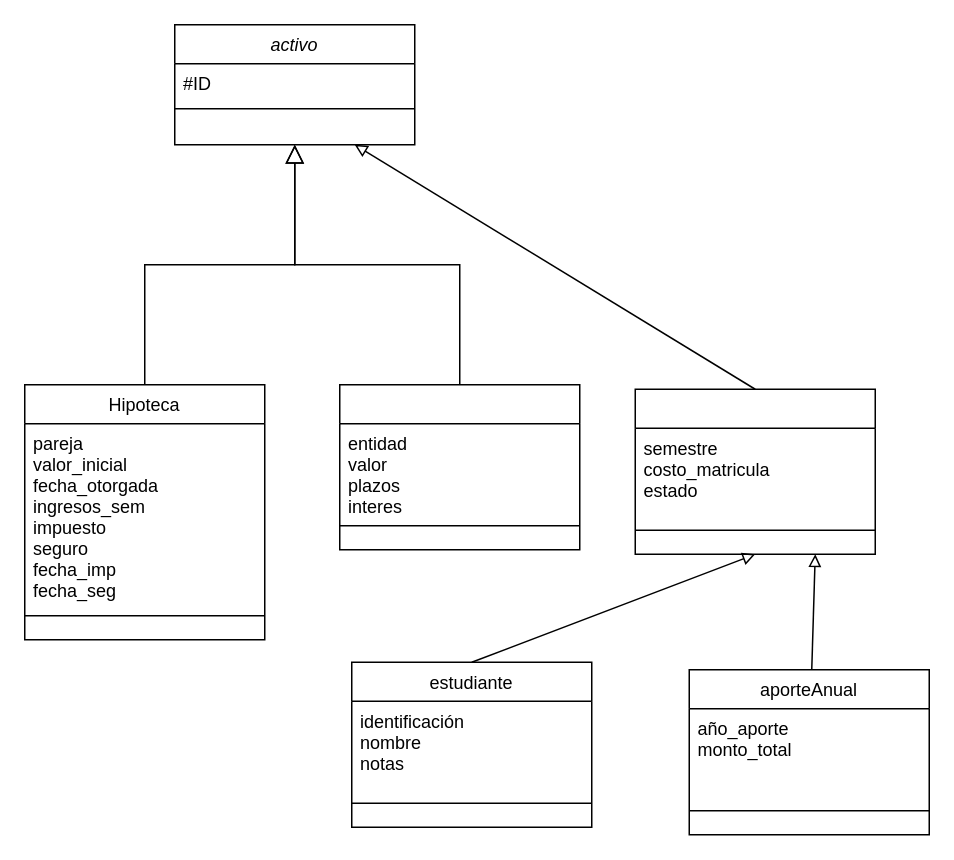
This 954x860 diagram has some shape labels left out. Here are the shapes that lost their labels. From the top down, the box of each, then its label:
(338, 383, 580, 550): inversion
(634, 388, 875, 554): BecaCredito
